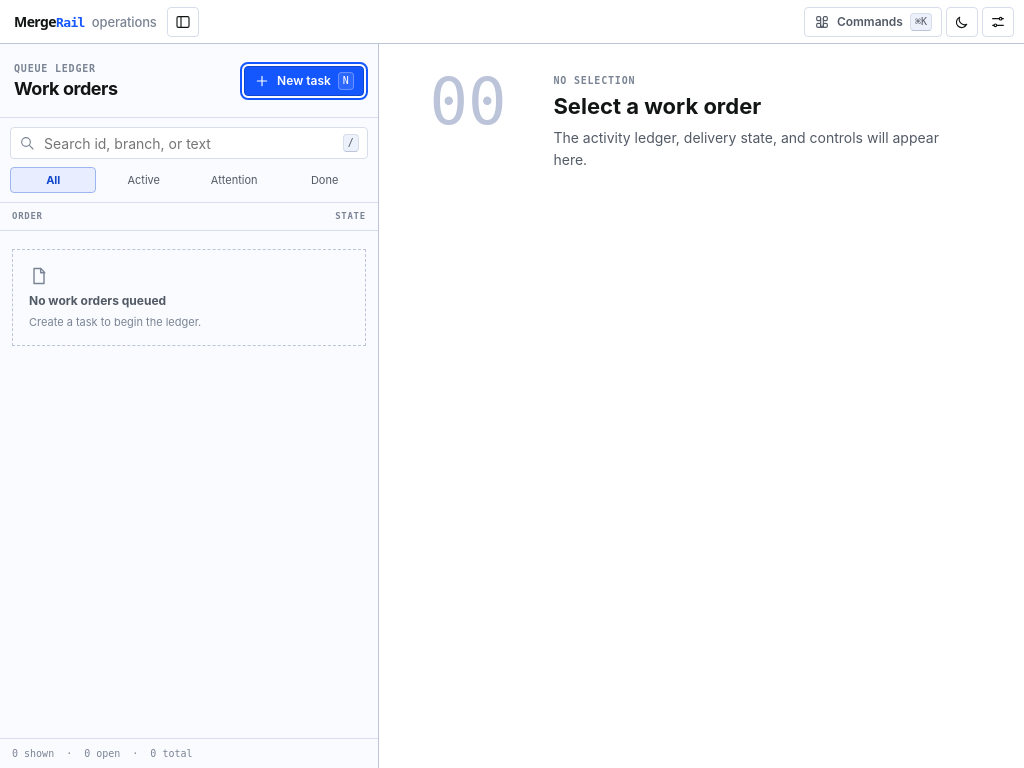
Scenario: App integration contracts › traps dialog work in an overlay and restores focus on Escape
This screenshot has width=1024, height=768.
Click the button "New task N" at [304, 80], box [244,66,364,96]
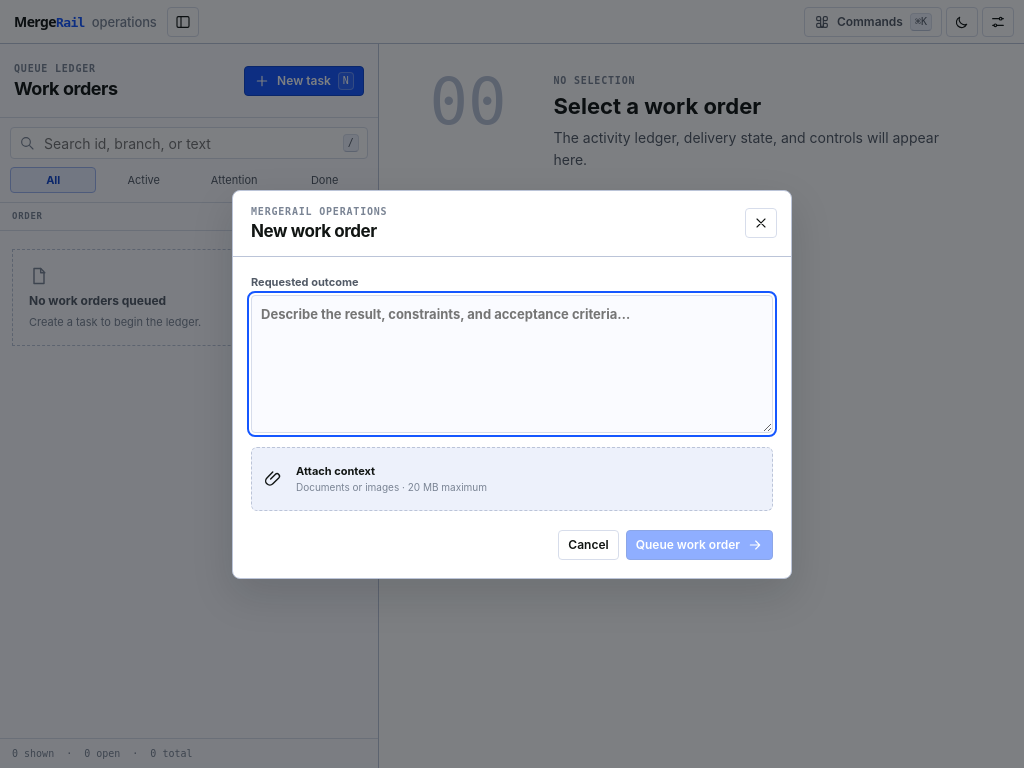
Press Escape in the dialog "New work order", box [232,190,792,578]
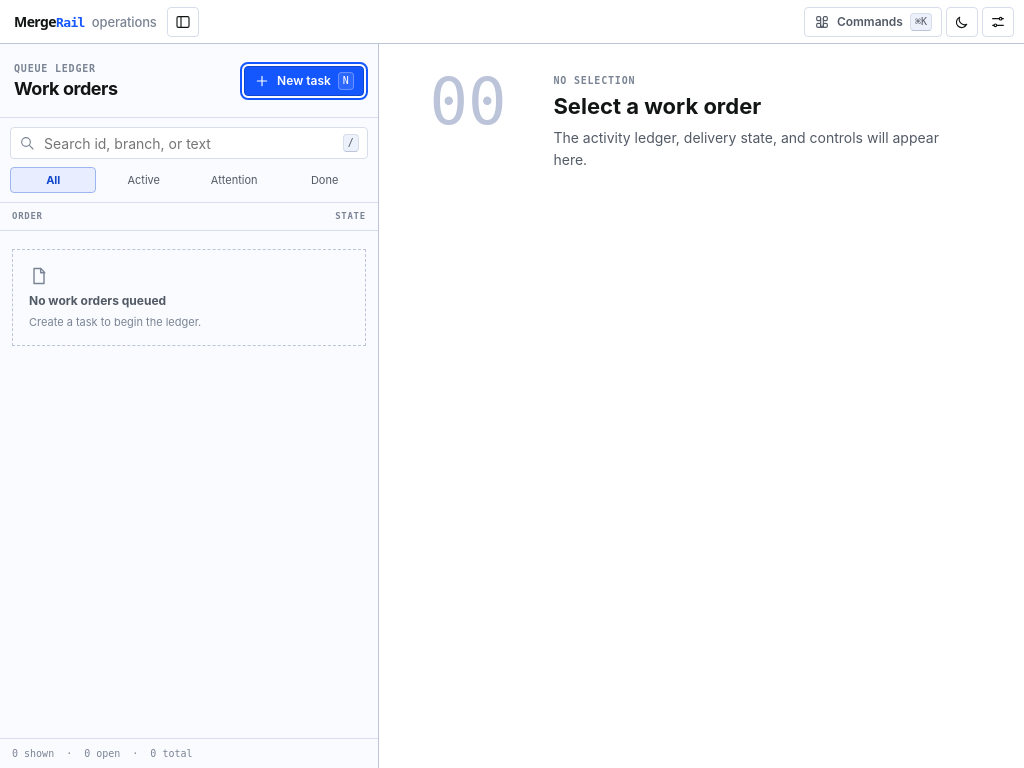
Result: the heading "New work order" is gone
